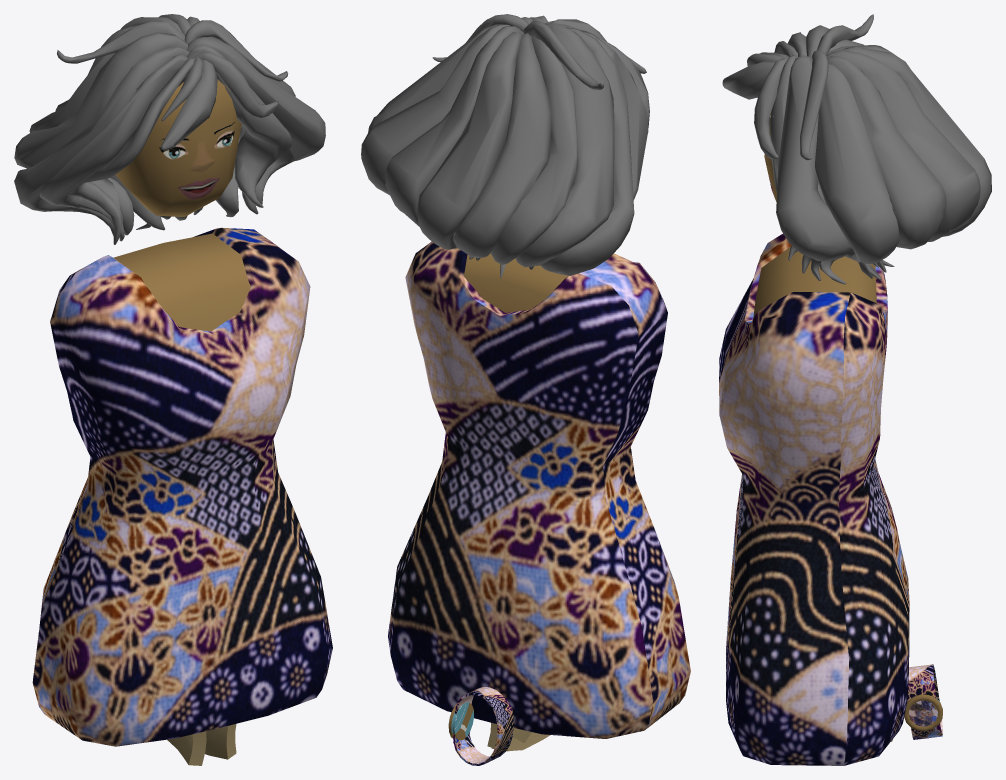
The model's file is Avatar6.fbx.
The picture shows the model from 3 angles, left to right: view 1: azimuth 30°, elevation 25°; view 2: azimuth 150°, elevation 25°; view 3: azimuth 270°, elevation 25°; orthographic projection.
Visible parts, largest first — view 1: Body6, Hair6, Head6, HandR, HandL; view 2: Body6, Hair6, Watch; view 3: Body6, Hair6, Watch.
Boxes of the visible parts, left/top/right/bottom form: Body6: left=32, top=227, right=332, bottom=746; Hair6: left=14, top=14, right=325, bottom=244; Head6: left=115, top=79, right=241, bottom=216; HandR: left=205, top=723, right=236, bottom=759; HandL: left=167, top=731, right=206, bottom=765; Body6: left=388, top=241, right=690, bottom=738; Hair6: left=361, top=14, right=649, bottom=278; Watch: left=448, top=687, right=513, bottom=765; Body6: left=719, top=233, right=909, bottom=765; Hair6: left=722, top=14, right=991, bottom=284; Watch: left=904, top=664, right=942, bottom=739.
Size of the model in its own units: 45.29 by 114 by 39.47.
3 materials, 1 textured.
